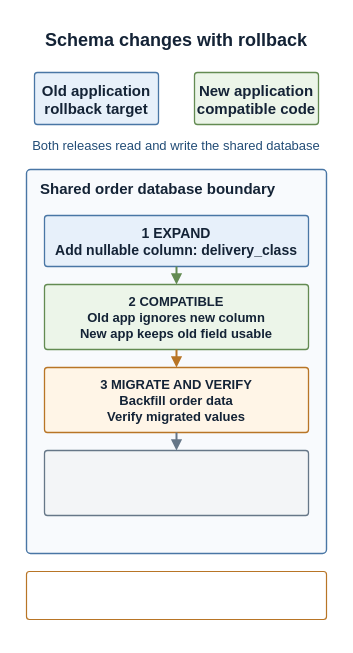
The diagram is 353 pixels wide and 653 high, and some of its shapes have lost their labels. The shapes that lost their labels are listed below. From the top down, each one's centre as x and y in pixels, then its label:
point 176,482: 4 CONTRACT (later) Remove old column only after old app is retired
point 176,595: Application rollback returns to old code. It does not undo shared database data.
